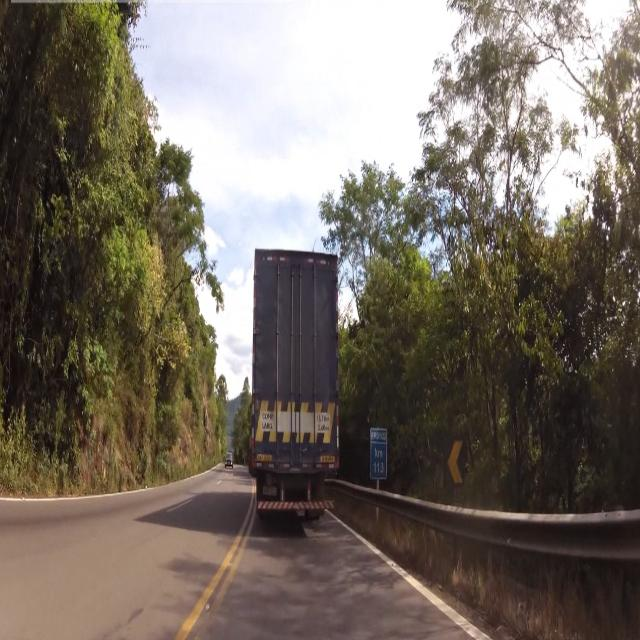Del: (446, 430, 470, 490)
RQ: (368, 427, 392, 485)
